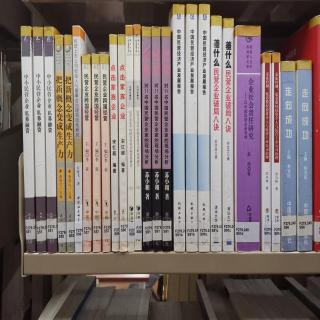book-spine: (234, 26, 263, 250), (32, 26, 48, 252), (43, 27, 59, 253), (197, 3, 211, 252), (184, 4, 197, 253), (281, 62, 298, 251), (295, 62, 312, 251), (21, 26, 35, 253), (222, 18, 235, 252), (150, 24, 163, 253), (173, 3, 185, 251), (71, 25, 83, 252), (161, 27, 173, 252), (108, 35, 120, 252), (269, 52, 282, 252), (211, 17, 222, 252), (98, 56, 111, 253), (125, 25, 136, 252), (132, 25, 143, 252), (141, 26, 152, 252), (117, 34, 128, 253), (90, 54, 102, 254), (55, 34, 66, 250), (64, 35, 75, 251), (261, 52, 272, 252), (81, 55, 92, 253)
